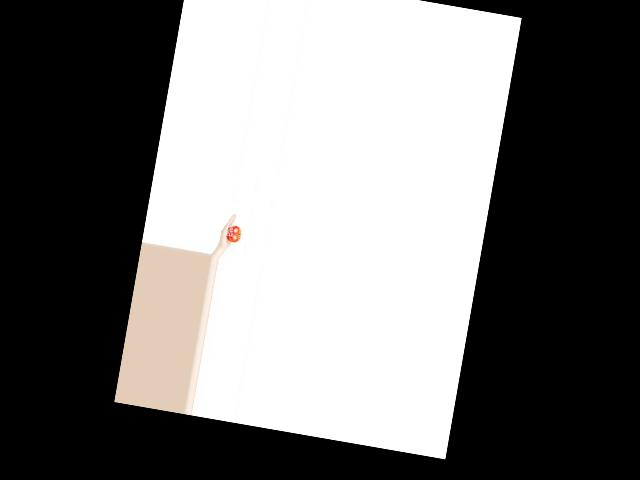tomato: (225, 224, 242, 243)
